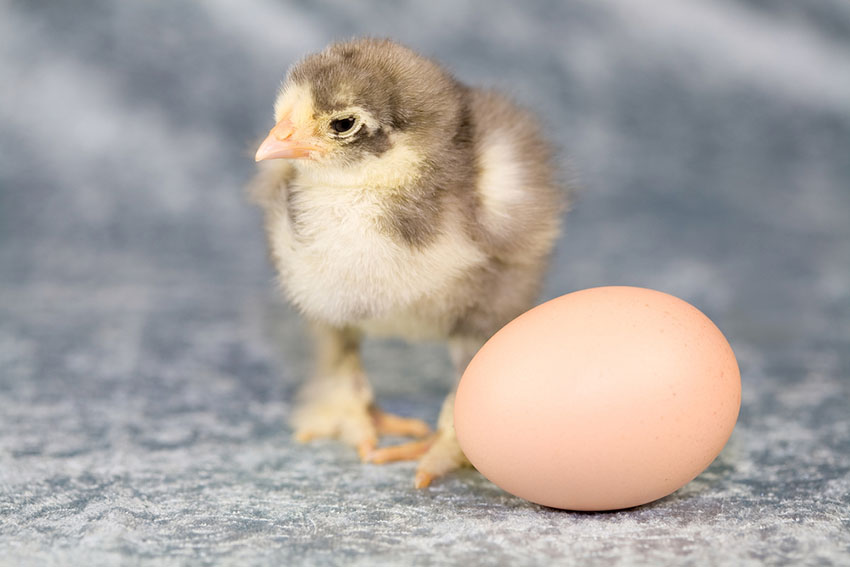Egg: (444, 270, 750, 520)
